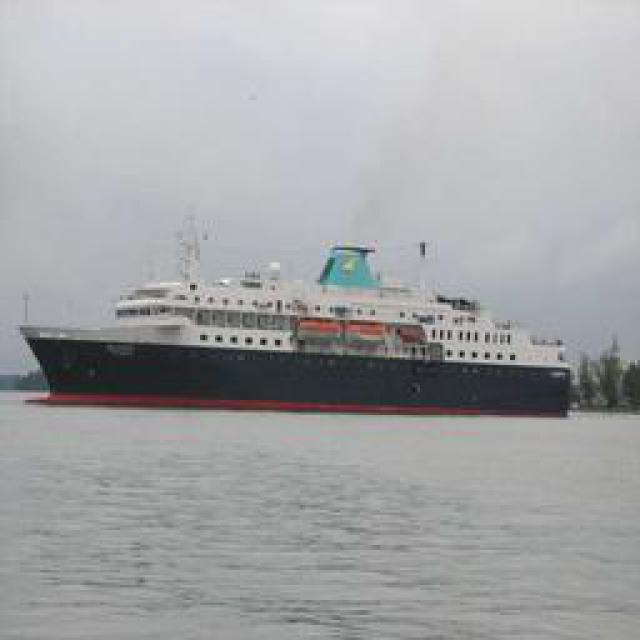Ship: (22, 232, 585, 410)
